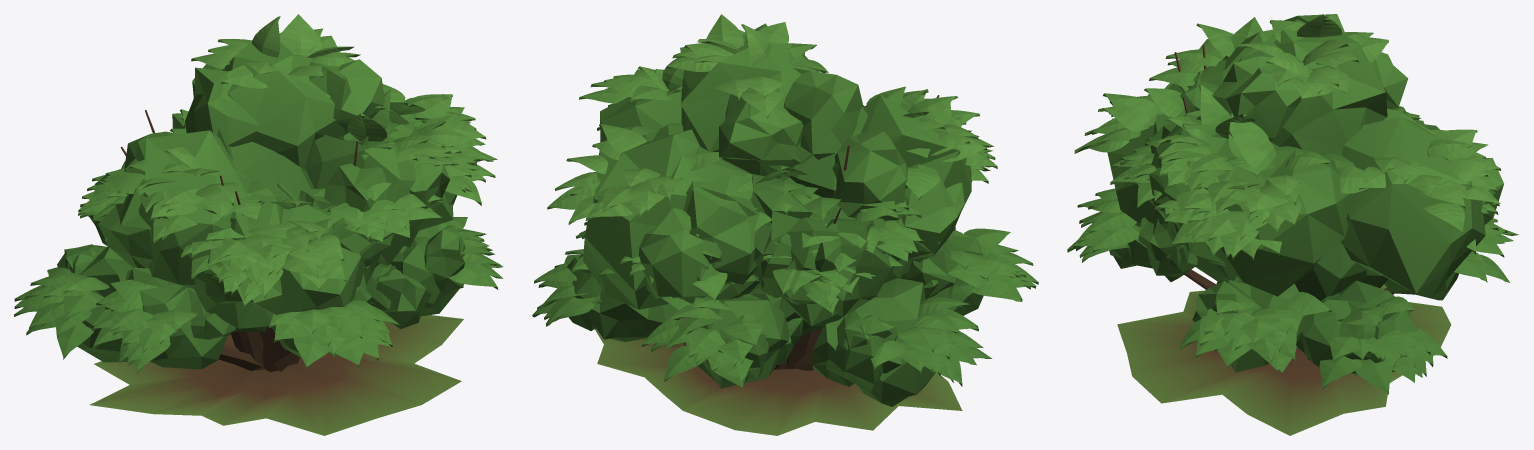
Rendered from bush.glb.
3 views of the same model, side by side, from view 1: azimuth 30°, elevation 25°; view 2: azimuth 150°, elevation 25°; view 3: azimuth 270°, elevation 25° (orthographic). The views are drawn at different scales.
Visible parts, largest first — view 1: bush; view 2: bush; view 3: bush.
Part boxes in pixels (box(x1,y1,x2,y2)): bush: box(14, 14, 503, 435); bush: box(532, 14, 1038, 435); bush: box(1067, 14, 1518, 435).
Bounding box in the file's own units: 0.9282 × 0.7081 × 0.852.
